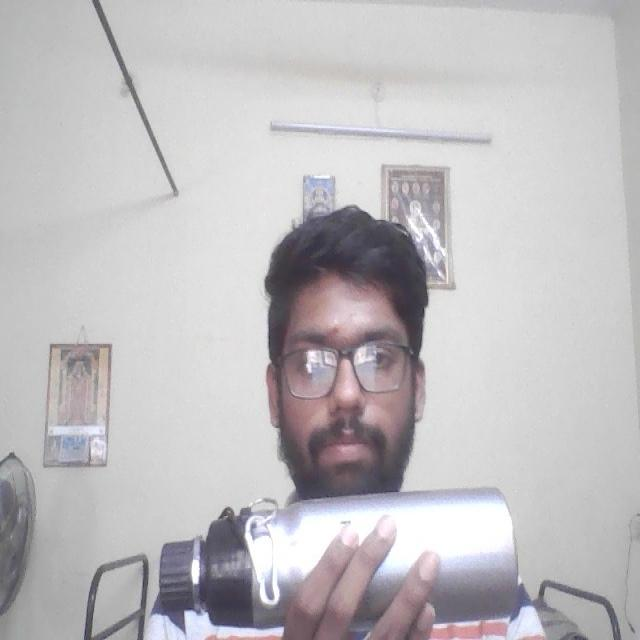Drinking: (154, 493, 525, 617)
